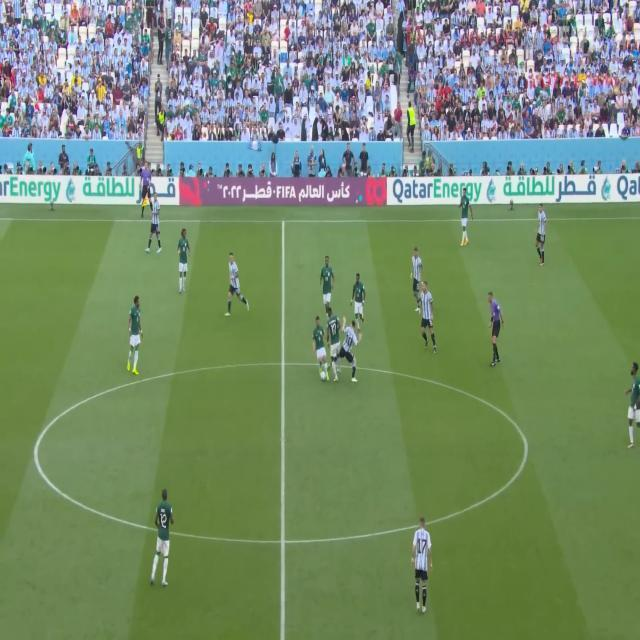player: (147, 485, 177, 592), (222, 248, 253, 328), (413, 509, 433, 618), (620, 357, 640, 451), (124, 293, 146, 378), (418, 279, 438, 360), (317, 248, 340, 313), (454, 183, 476, 248), (310, 314, 331, 382), (175, 223, 194, 298), (325, 305, 342, 388), (144, 194, 165, 260), (342, 318, 363, 384), (534, 199, 554, 267), (352, 267, 372, 327), (409, 244, 426, 307)
